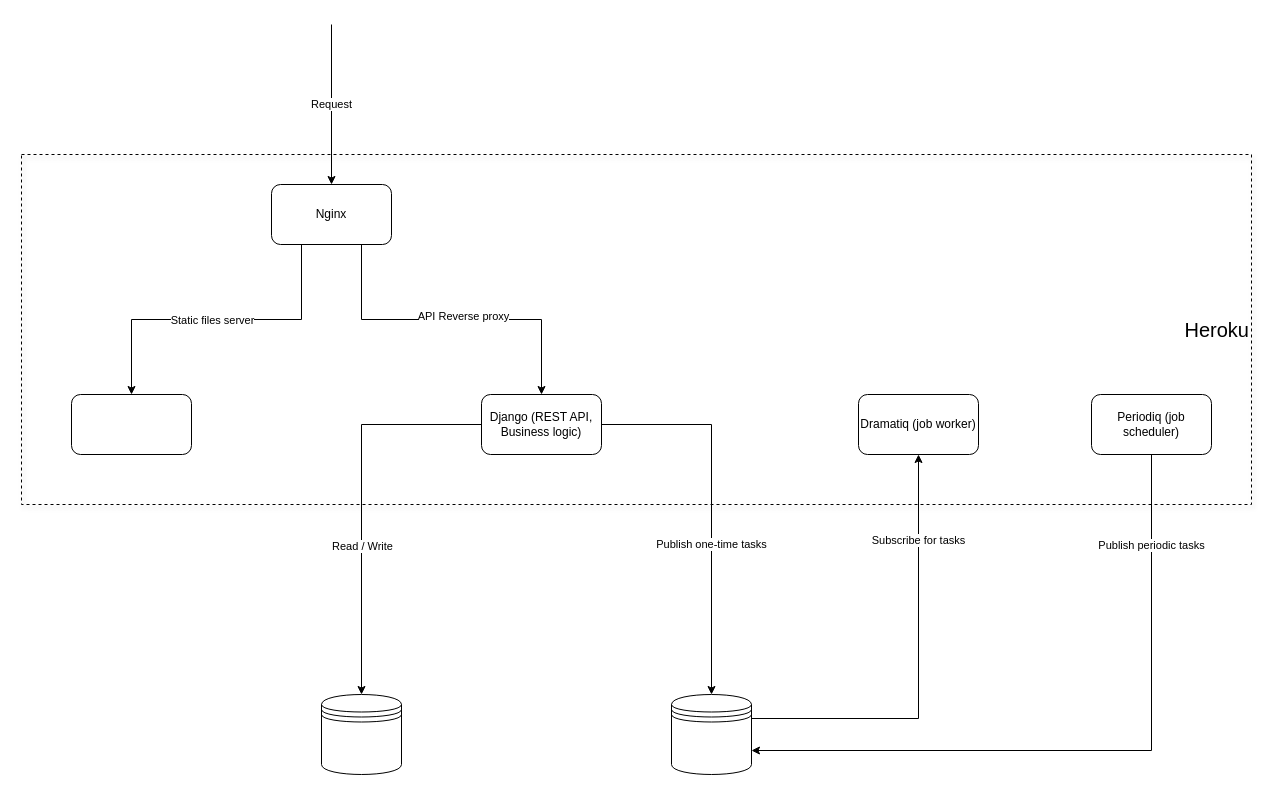
Image size: 1275x792. Some labels were removed from this diagram. The shapes that lost their labels are listed below. From the top down, each one's centre as x and y in pixels, then its label:
the point at 131,424: React (HTML, JS, CSS)
the point at 361,734: PostgreSQL
the point at 711,734: Redis
